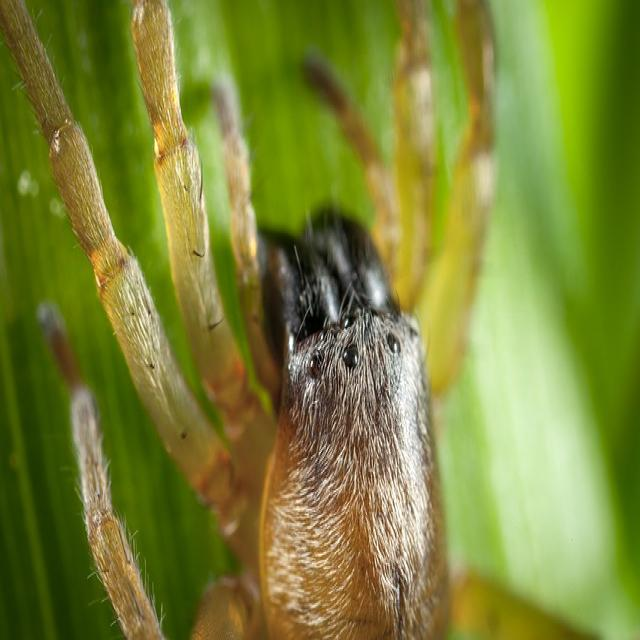spyder: (0, 0, 492, 638), (49, 324, 161, 637)
